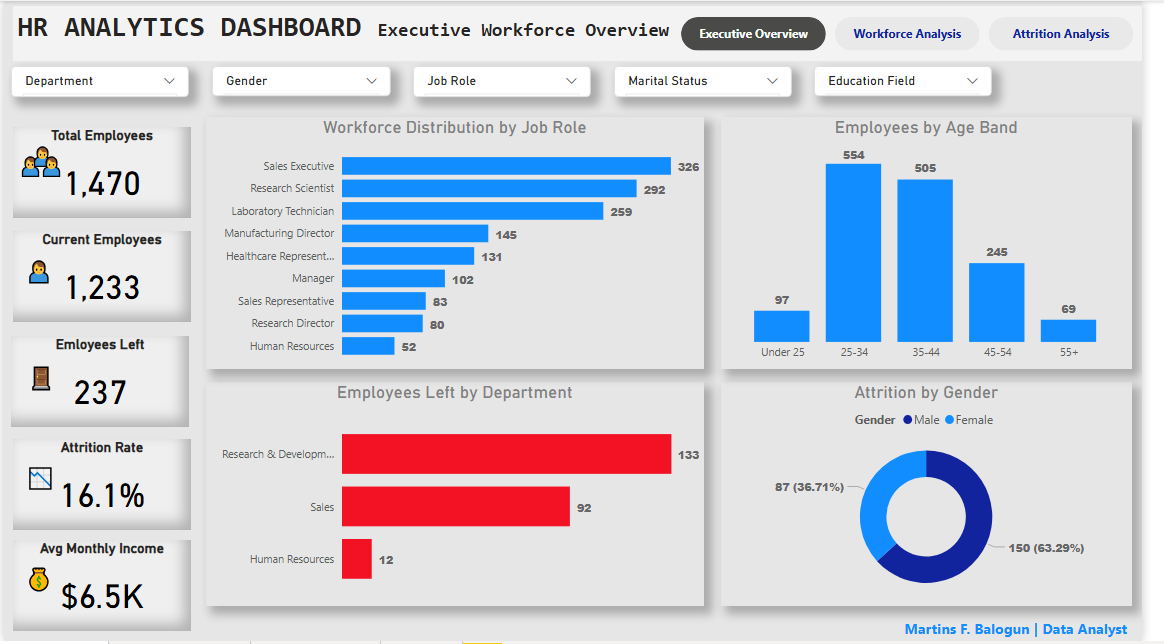

Layout of this report page (visuals, bound fields, positions):
{"tool":"powerbi","page":{"name":"Executive Overview","canvas":[1280,720],"ordinal":0},"visuals":[{"type":"textbox","box":[9.9,5.6,1270.1,61.9],"z":0},{"type":"textbox","box":[12.4,165.5,46.1,52.9],"z":0,"group":"g1"},{"type":"card","title":"Total Employees","fields":{"Values":["All Measures.Total Employees"]},"box":[10.1,141.8,200.2,102.4],"z":1000},{"type":"textbox","box":[25.9,154.3,46.1,47.2],"z":1000,"group":"g1"},{"type":"textbox","box":[36,165.5,46.1,47.2],"z":2000,"group":"g1"},{"type":"card","title":"Current Employees","fields":{"Values":["All Measures.Current Employees"]},"box":[10.1,258.8,200.2,102.4],"z":2000},{"type":"card","title":"Emloyees Left","fields":{"Values":["All Measures.Employees Left"]},"box":[7.9,376.9,200.2,102.4],"z":3000},{"type":"card","title":"Attrition Rate","fields":{"Values":["All Measures.Attrition Rate"]},"box":[10.1,492.8,200.2,102.4],"z":4000},{"type":"clusteredBarChart","fields":{"Category":["HR Analytics Data.Department"],"Y":["All Measures.Employees Left"]},"box":[226.9,428.4,559.7,252.4],"z":5000},{"type":"card","title":"Avg Monthly Income","fields":{"Values":["All Measures.Average Monthly Income"]},"box":[10.1,606.4,200.2,102.4],"z":5000,"group":"g2"},{"type":"columnChart","title":"Employees by Age Band","fields":{"Y":["All Measures.Total Employees"],"Category":["HR Analytics Data.Age Band"]},"box":[807,130,461.5,283],"z":6000},{"type":"donutChart","title":"Attrition by Gender","fields":{"Category":["HR Analytics Data.Gender"],"Y":["All Measures.Employees Left"]},"box":[807,428.4,461.5,252.4],"z":7000},{"type":"clusteredBarChart","title":"Workforce Distribution by Job Role","fields":{"Category":["HR Analytics Data.JobRole"],"Y":["All Measures.Total Employees"]},"box":[226.9,130,559.7,283],"z":8000},{"type":"slicer","title":"Department","fields":{"Values":["HR Analytics Data.Department"]},"box":[7.9,73.7,200.2,34.9],"z":9000},{"type":"slicer","title":"Department","fields":{"Values":["HR Analytics Data.Gender"]},"box":[233.5,73.7,201.4,34.4],"z":10000},{"type":"slicer","title":"Department","fields":{"Values":["HR Analytics Data.JobRole"]},"box":[460.4,73.7,200.2,35],"z":11000},{"type":"slicer","title":"Department","fields":{"Values":["HR Analytics Data.MaritalStatus"]},"box":[686,73.7,200.2,35],"z":12000},{"type":"slicer","title":"Department","fields":{"Values":["HR Analytics Data.EducationField"]},"box":[911.6,73.7,200.2,34.4],"z":13000},{"type":"textbox","box":[870.8,689.4,397.8,30.6],"z":14000},{"type":"pageNavigator","box":[761.1,17.8,510,38.2],"z":15000},{"type":"textbox","box":[20.2,281.2,46.1,47.2],"z":16000},{"type":"textbox","box":[23.6,401.6,46.1,47.2],"z":17000},{"type":"textbox","box":[20.2,514.1,46.1,47.2],"z":18000},{"type":"group","id":"g1","title":"Group 1","box":[12.4,154.3,69.8,64.1],"z":19000},{"type":"group","id":"g2","title":"Group 2","box":[10.1,606.4,200.2,102.4],"z":20000},{"type":"textbox","box":[20.2,627.8,46.1,47.2],"z":20000,"group":"g2"}]}

Visuals, with their boxes in screenshot pixels (x1, y1, x2, y2), scaled from the page's 1280x720 canvas onto the 1164x644 screenshot:
textbox: bbox(9, 5, 1163, 60)
textbox: bbox(11, 148, 53, 195)
"Total Employees" card: bbox(9, 127, 191, 218)
textbox: bbox(24, 138, 65, 180)
textbox: bbox(33, 148, 75, 190)
"Current Employees" card: bbox(9, 231, 191, 323)
"Emloyees Left" card: bbox(7, 337, 189, 429)
"Attrition Rate" card: bbox(9, 441, 191, 532)
clusteredBarChart - HR Analytics Data.Department x All Measures.Employees Left: bbox(206, 383, 715, 609)
"Avg Monthly Income" card: bbox(9, 542, 191, 634)
"Employees by Age Band" columnChart: bbox(734, 116, 1154, 369)
"Attrition by Gender" donutChart: bbox(734, 383, 1154, 609)
"Workforce Distribution by Job Role" clusteredBarChart: bbox(206, 116, 715, 369)
"Department" slicer: bbox(7, 66, 189, 97)
"Department" slicer: bbox(212, 66, 395, 97)
"Department" slicer: bbox(419, 66, 601, 97)
"Department" slicer: bbox(624, 66, 806, 97)
"Department" slicer: bbox(829, 66, 1011, 97)
textbox: bbox(792, 617, 1154, 643)
pageNavigator: bbox(692, 16, 1156, 50)
textbox: bbox(18, 252, 60, 294)
textbox: bbox(21, 359, 63, 401)
textbox: bbox(18, 460, 60, 502)
"Group 1" group: bbox(11, 138, 75, 195)
"Group 2" group: bbox(9, 542, 191, 634)
textbox: bbox(18, 562, 60, 604)
